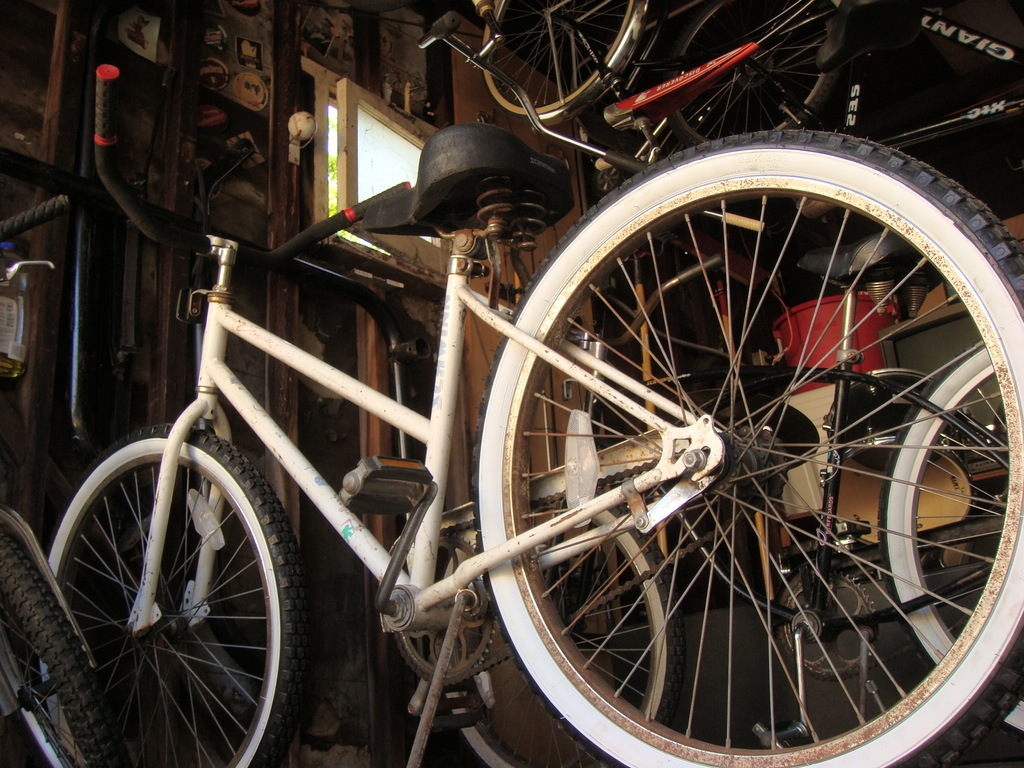Bike: (59, 149, 934, 739)
